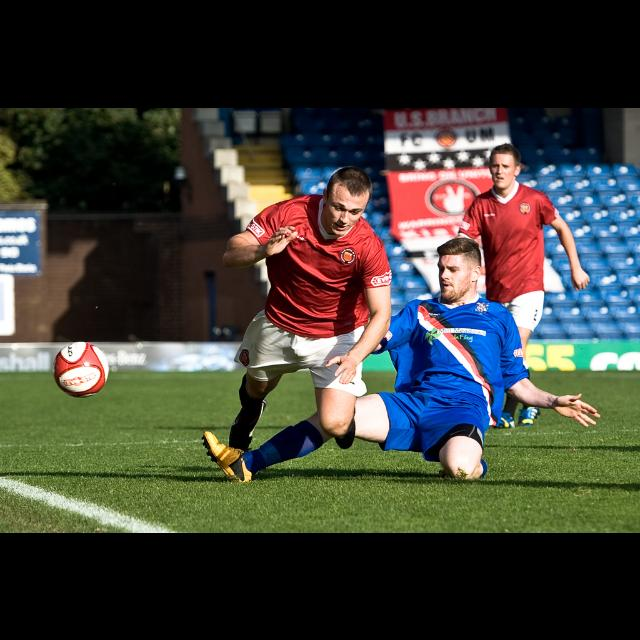Football: (52, 337, 106, 393)
